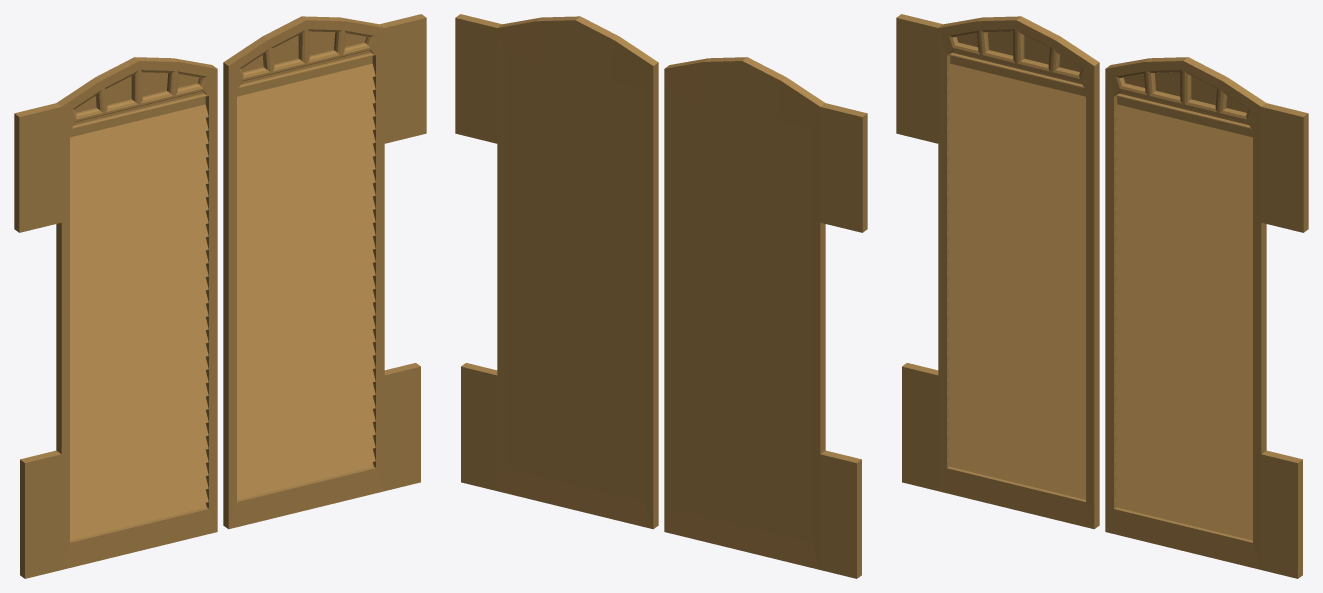
Rendered from ExitNoArch.fbx.
3 renders of one model, left to right at view 1: azimuth 30°, elevation 25°; view 2: azimuth 150°, elevation 25°; view 3: azimuth 330°, elevation 25°, orthographic.
Parts seen in each view (by area): view 1: Plane.001, Plane; view 2: Plane; view 3: Plane.001, Plane.
Part boxes in pixels (bbox=[...]): Plane.001: bbox=[70, 63, 375, 540]; Plane: bbox=[14, 14, 426, 578]; Plane: bbox=[455, 14, 867, 578]; Plane.001: bbox=[947, 63, 1252, 540]; Plane: bbox=[896, 14, 1308, 578].
Size of the model in its own units: 585 by 673 by 12.94.
